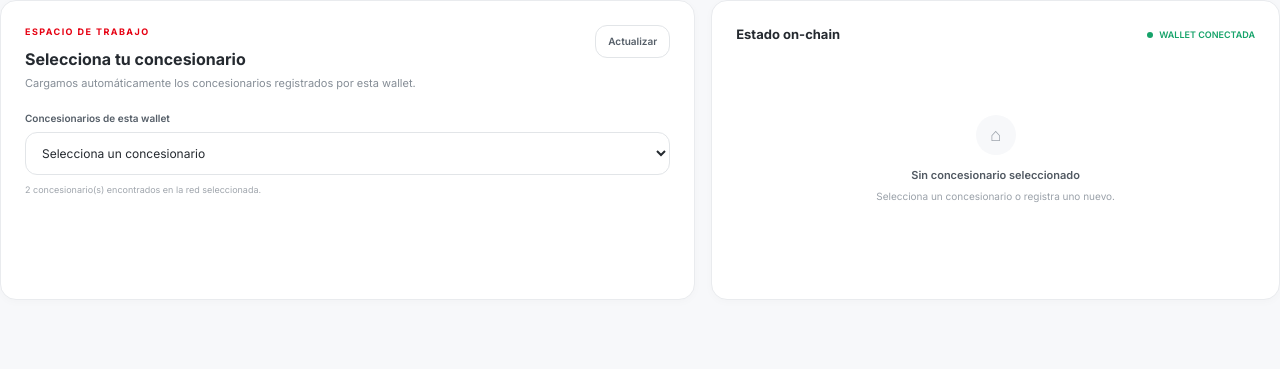
MotoLedger dealership workspace › changes the selected dealership from the selector
Step 1. Select "MOTOS TORO · J345678901" in the dropdown → (348, 154), box top-left (25, 132), bottom-right (670, 175)
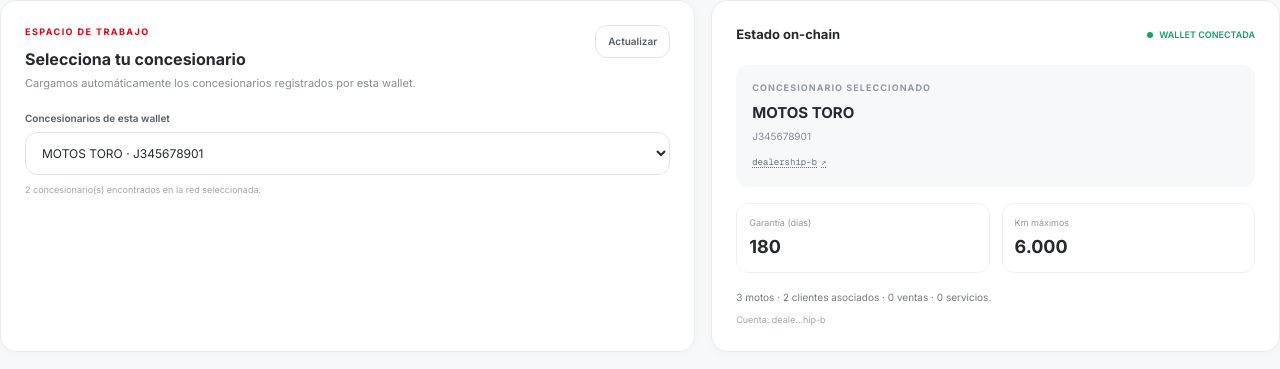
expect the text "J345678901" is shown: met, box top-left (752, 130), bottom-right (811, 142)
